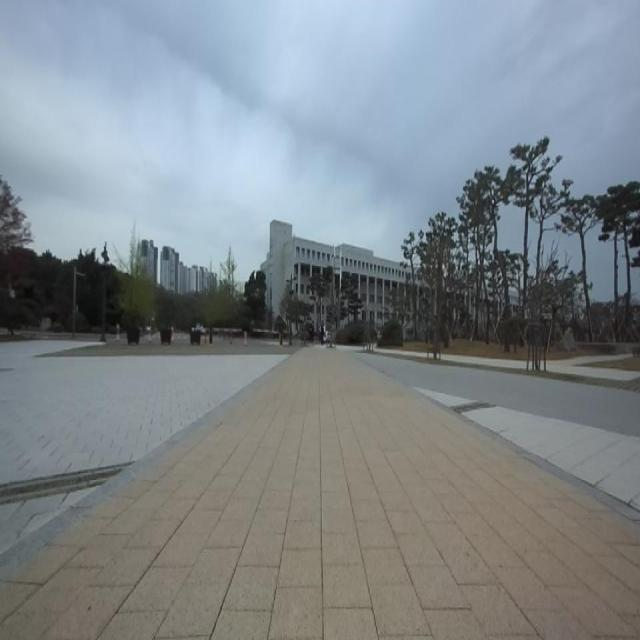sidewalk: (0, 349, 640, 638), (546, 361, 640, 380), (548, 362, 640, 380), (440, 354, 527, 369), (374, 349, 427, 357)
